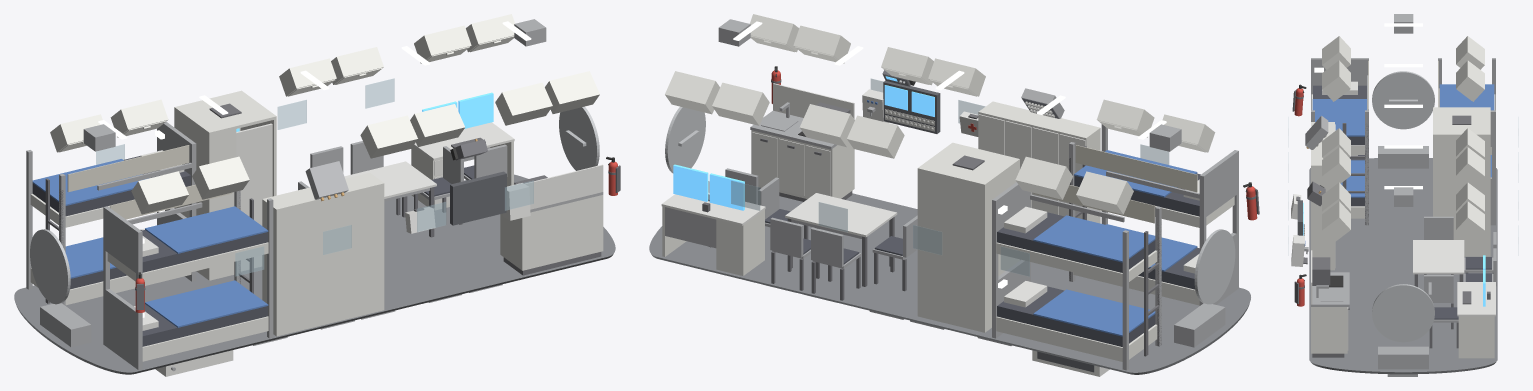
Rendered from rover10_surface_hab_cutaway.glb.
3 renders of one model, left to right at view 1: azimuth 30°, elevation 25°; view 2: azimuth 150°, elevation 25°; view 3: azimuth 270°, elevation 25°, orthographic. The views are drawn at different scales.
Visible parts, largest first — view 1: stowage_lockers, deck_floor, eq39_1_body, eq39_2_body, eq34_1_blankets, eq37_1_cabinet, eq40_1_walls, window_glass_inner, eq34_1_guard_rail_headboards, eq34_1_berths, eq34_1_mattresses, eq40_1_door (+30 smaller); view 2: stowage_lockers, deck_floor, eq40_1_walls, eq34_2_blankets, eq34_2_mattresses, eq34_2_berths, eq37_1_doors, window_glass_inner, eq34_2_posts, eq34_1_guard_rail_headboards, eq36_1_table_top, eq38_1_pedestal (+35 smaller); view 3: deck_floor, stowage_lockers, eq40_1_walls, hatch_door_1, hatch_door_2, eq34_1_blankets, eq36_1_table_top, eq37_1_cabinet, eq38_1_side_panel, eq39_2_body, entry_step_1, eq38_1_desk_top (+26 smaller).
Part boxes in pixels (x1,y1,x2,y2): stowage_lockers: (50, 14, 599, 214); deck_floor: (14, 174, 615, 374); eq39_1_body: (262, 187, 330, 336); eq39_2_body: (330, 173, 384, 323); eq34_1_blankets: (145, 206, 268, 327); eq37_1_cabinet: (500, 195, 603, 270); eq40_1_walls: (174, 90, 276, 280); window_glass_inner: (96, 78, 533, 276); eq34_1_guard_rail_headboards: (103, 202, 202, 369); eq34_1_berths: (107, 242, 268, 361); eq34_1_mattresses: (141, 230, 267, 346); eq40_1_door: (236, 123, 272, 271); stowage_lockers: (665, 14, 1215, 214); deck_floor: (649, 193, 1250, 374); eq40_1_walls: (917, 142, 1019, 332); eq34_2_blankets: (1033, 215, 1155, 336); eq34_2_mattresses: (997, 212, 1155, 346); eq34_2_berths: (996, 242, 1157, 361); eq37_1_doors: (752, 132, 830, 197); window_glass_inner: (731, 78, 1169, 276); eq34_2_posts: (992, 192, 1161, 370); eq34_1_guard_rail_headboards: (1106, 150, 1238, 304); eq36_1_table_top: (785, 193, 897, 237); eq38_1_pedestal: (716, 209, 764, 275); deck_floor: (1309, 158, 1497, 374); stowage_lockers: (1322, 36, 1484, 242); eq40_1_walls: (1433, 107, 1490, 256); hatch_door_1: (1372, 284, 1434, 342); hatch_door_2: (1372, 71, 1434, 129); eq34_1_blankets: (1312, 99, 1366, 197); eq36_1_table_top: (1413, 240, 1464, 274); eq37_1_cabinet: (1311, 307, 1347, 353); eq38_1_side_panel: (1458, 316, 1494, 358); eq39_2_body: (1311, 144, 1334, 270); entry_step_1: (1378, 346, 1428, 369); eq38_1_desk_top: (1457, 282, 1495, 316).
Size of the model in its own units: 7.92 by 3.45 by 3.59.
